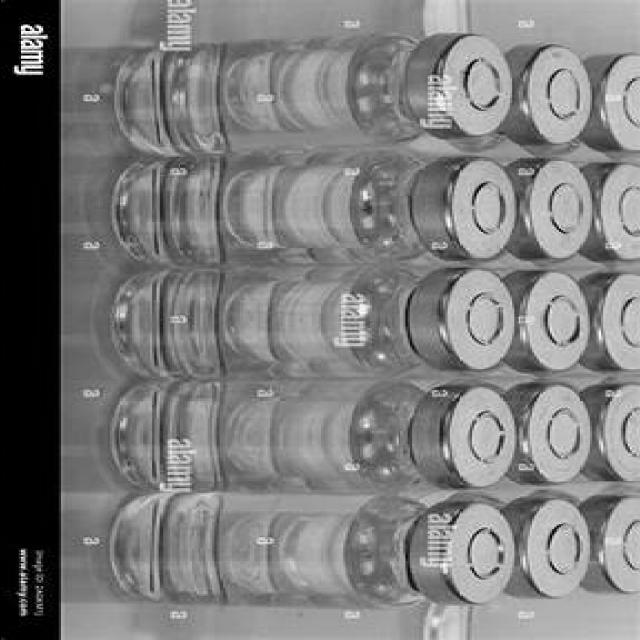vial: (517, 388, 592, 499), (438, 272, 510, 371), (524, 271, 587, 383), (520, 504, 590, 596), (532, 156, 596, 254), (435, 508, 501, 602), (452, 160, 512, 254), (451, 36, 504, 130), (447, 396, 512, 470), (598, 494, 640, 596), (530, 56, 580, 136), (602, 268, 640, 372), (599, 383, 640, 479), (601, 59, 640, 158), (604, 169, 640, 255)
